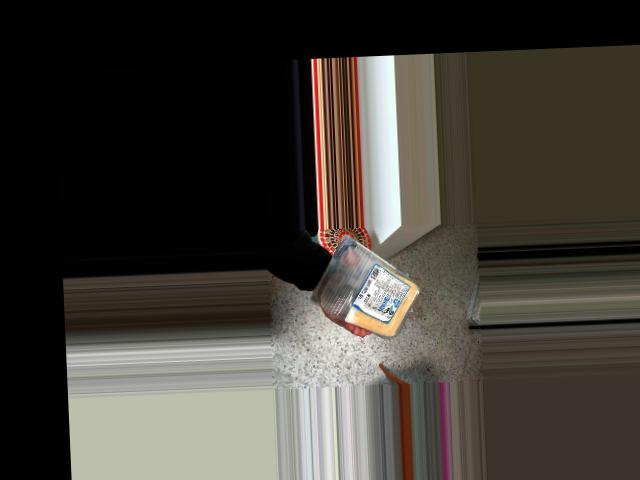cheese: (322, 241, 425, 327)
